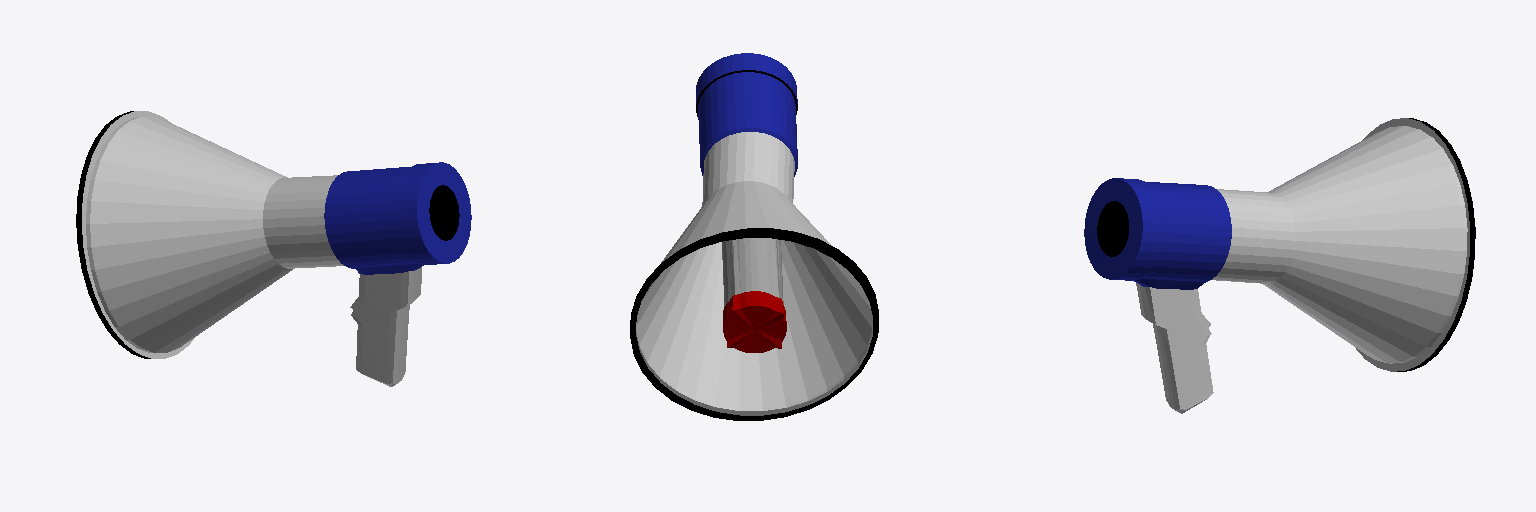
The model's file is megaphone.obj.
The picture shows the model from 3 angles: view 1: azimuth 30°, elevation 25°; view 2: azimuth 150°, elevation 25°; view 3: azimuth 270°, elevation 25°; orthographic projection.
Visible parts, largest first — view 1: MegaPhone_Cylinder.001; view 2: MegaPhone_Cylinder.001; view 3: MegaPhone_Cylinder.001.
Boxes of the visible parts, box(x1,y1,x2,y2) form: MegaPhone_Cylinder.001: box(76, 111, 471, 386); MegaPhone_Cylinder.001: box(630, 53, 878, 420); MegaPhone_Cylinder.001: box(1084, 118, 1475, 413).
Bounding box in the file's own units: 2.34 × 1.91 × 2.77.